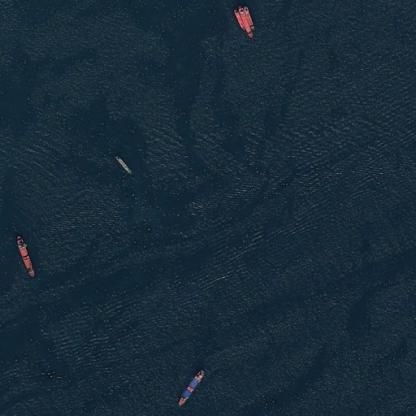ship: (229, 3, 255, 38), (112, 153, 133, 174), (174, 386, 205, 387), (11, 251, 35, 252)
